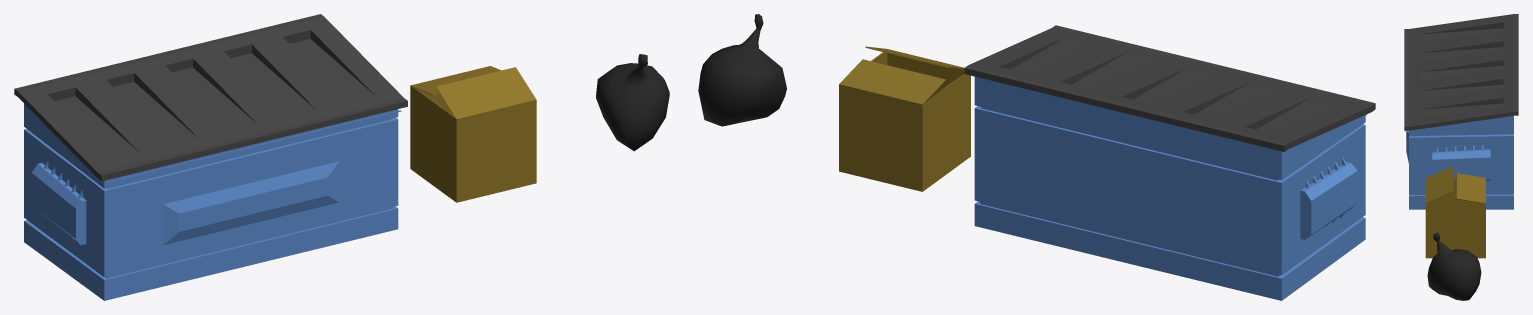
File: Garbage.fbx
3 views of the same model, side by side, from view 1: azimuth 30°, elevation 25°; view 2: azimuth 150°, elevation 25°; view 3: azimuth 270°, elevation 25° (orthographic). The views are drawn at different scales.
Visible parts, largest first — view 1: Dumpster, CardboardBox, BinBag; view 2: Dumpster, CardboardBox, BinBag; view 3: Dumpster, CardboardBox, BinBag.
Boxes of the visible parts, x1,y1,x2,y2 form: Dumpster: (14,14,407,300); CardboardBox: (410,66,536,202); BinBag: (596,54,669,151); Dumpster: (964,25,1375,300); CardboardBox: (839,46,970,191); BinBag: (698,14,786,126); Dumpster: (1404,14,1518,209); CardboardBox: (1425,166,1485,258); BinBag: (1427,232,1481,300).
Bounding box in the file's own units: 7.9 × 1.91 × 1.97.
